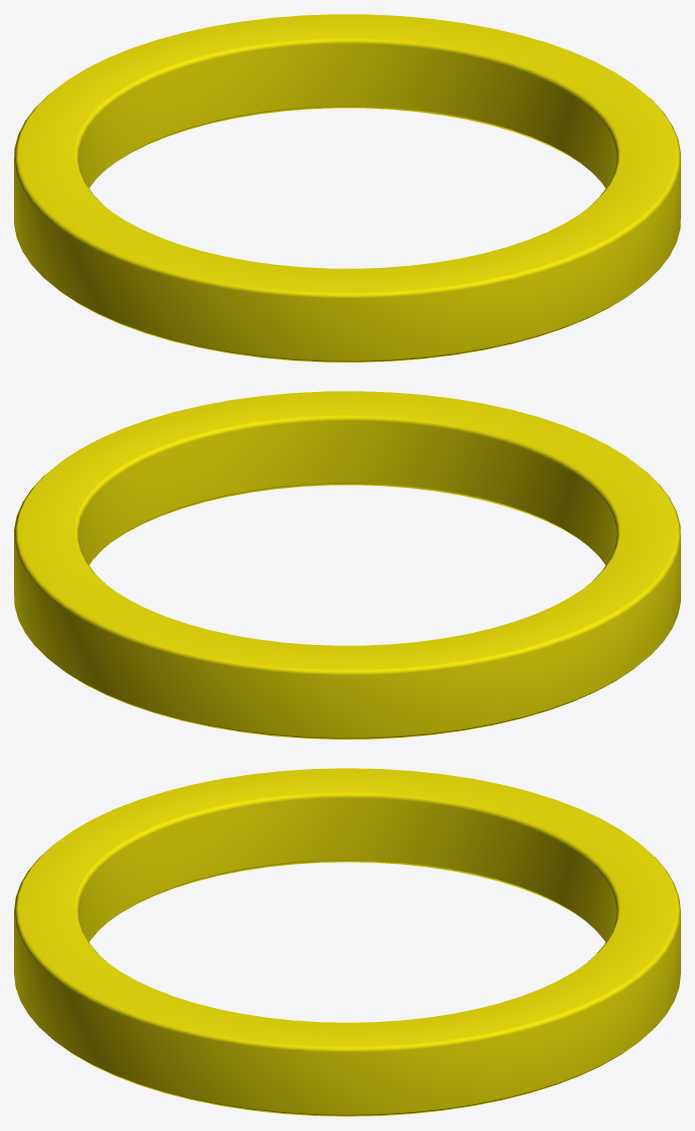
3 views of the same model, one above another, from view 1: azimuth 30°, elevation 25°; view 2: azimuth 150°, elevation 25°; view 3: azimuth 270°, elevation 25° (orthographic).
Visible parts, largest first — view 1: seal_body; view 2: seal_body; view 3: seal_body.
Boxes of the visible parts, bbox=[...] form: seal_body: bbox=[14, 14, 680, 362]; seal_body: bbox=[14, 391, 680, 739]; seal_body: bbox=[14, 768, 680, 1116].
Bounding box in the file's own units: 0.036 × 0.0042 × 0.036.
